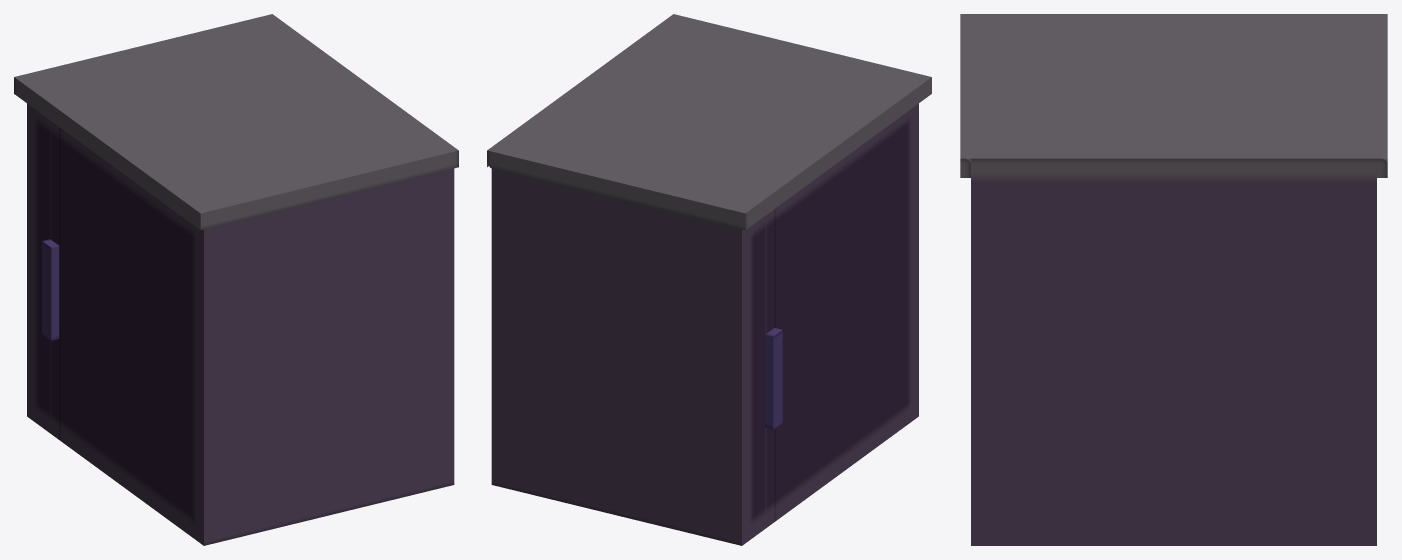
Rendered from szafka_noc.dae.
The picture shows the model from 3 angles, left to right: view 1: azimuth 30°, elevation 25°; view 2: azimuth 150°, elevation 25°; view 3: azimuth 270°, elevation 25°; orthographic projection. The views are drawn at different scales.
Parts seen in each view (by area): view 1: Content; view 2: Content; view 3: Content.
Part boxes in pixels (<box>): Content: <box>14,14,458,545</box>; Content: <box>487,14,931,545</box>; Content: <box>960,14,1387,545</box>.
Bounding box in the file's own units: 32 × 40 × 40.
Materials: 1 (1 with a texture image).
